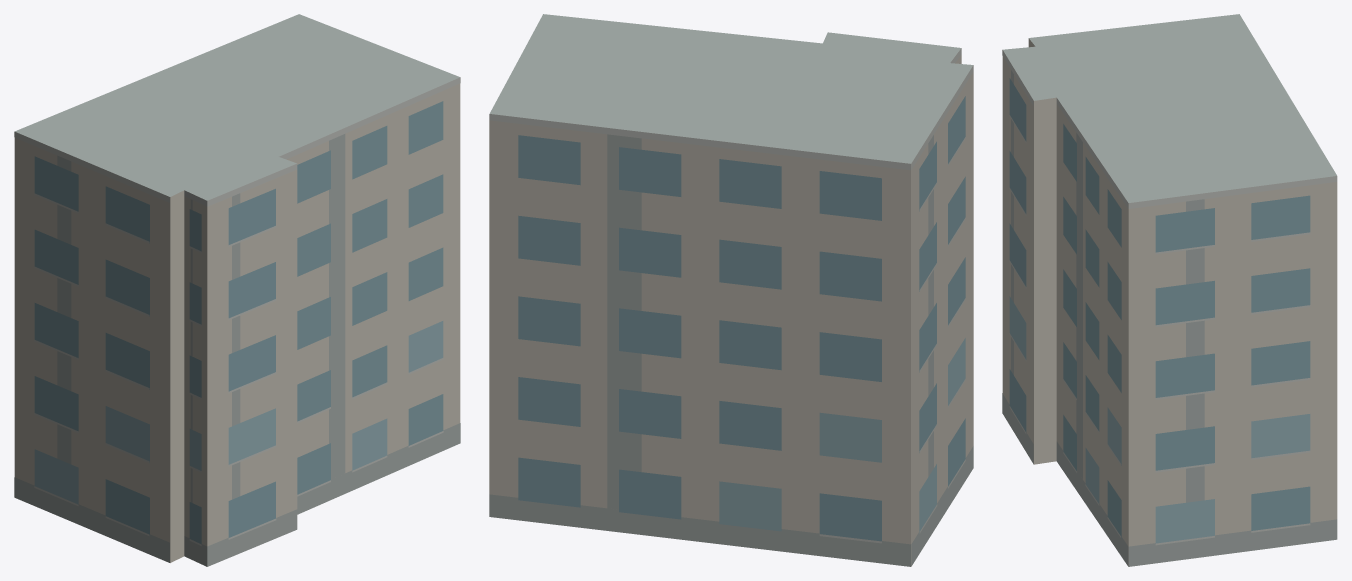
The model's file is survey-upis-32852244.glb.
The picture shows the model from 3 angles, left to right: view 1: azimuth 30°, elevation 25°; view 2: azimuth 150°, elevation 25°; view 3: azimuth 270°, elevation 25°; orthographic projection. The views are drawn at different scales.
Parts seen in each view (by area): view 1: survey-upis-32852244.tmp; view 2: survey-upis-32852244.tmp; view 3: survey-upis-32852244.tmp.
Part boxes in pixels (x1,y1,x2,y2): survey-upis-32852244.tmp: (14,14,460,566); survey-upis-32852244.tmp: (489,14,973,566); survey-upis-32852244.tmp: (1002,14,1337,566).
Bounding box in the file's own units: 16.74 × 15 × 12.52.
